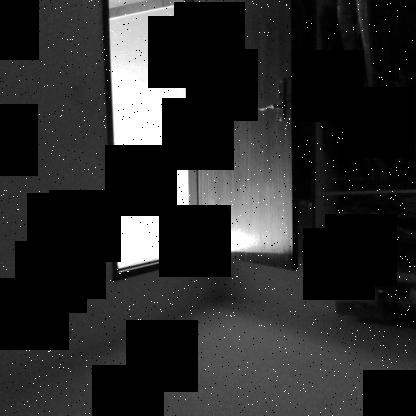Porte: (99, 0, 301, 286)
